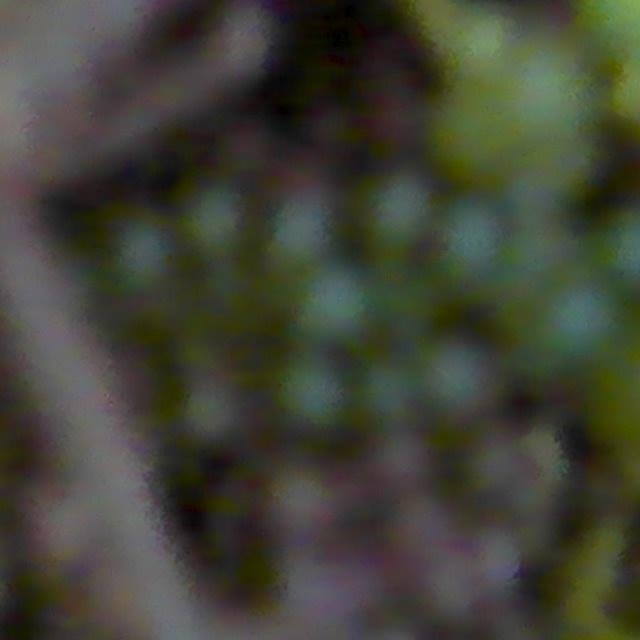SeaGrape: (495, 36, 595, 145), (532, 279, 622, 366), (415, 338, 499, 420), (438, 3, 519, 86), (294, 262, 372, 345), (437, 199, 511, 279), (263, 461, 336, 540), (276, 355, 350, 430), (362, 171, 434, 248), (461, 437, 536, 508), (181, 184, 252, 258), (456, 517, 531, 587), (108, 217, 175, 292), (180, 375, 248, 448), (269, 189, 335, 264), (393, 492, 460, 555), (359, 359, 421, 423), (367, 430, 433, 490), (418, 537, 472, 604)
